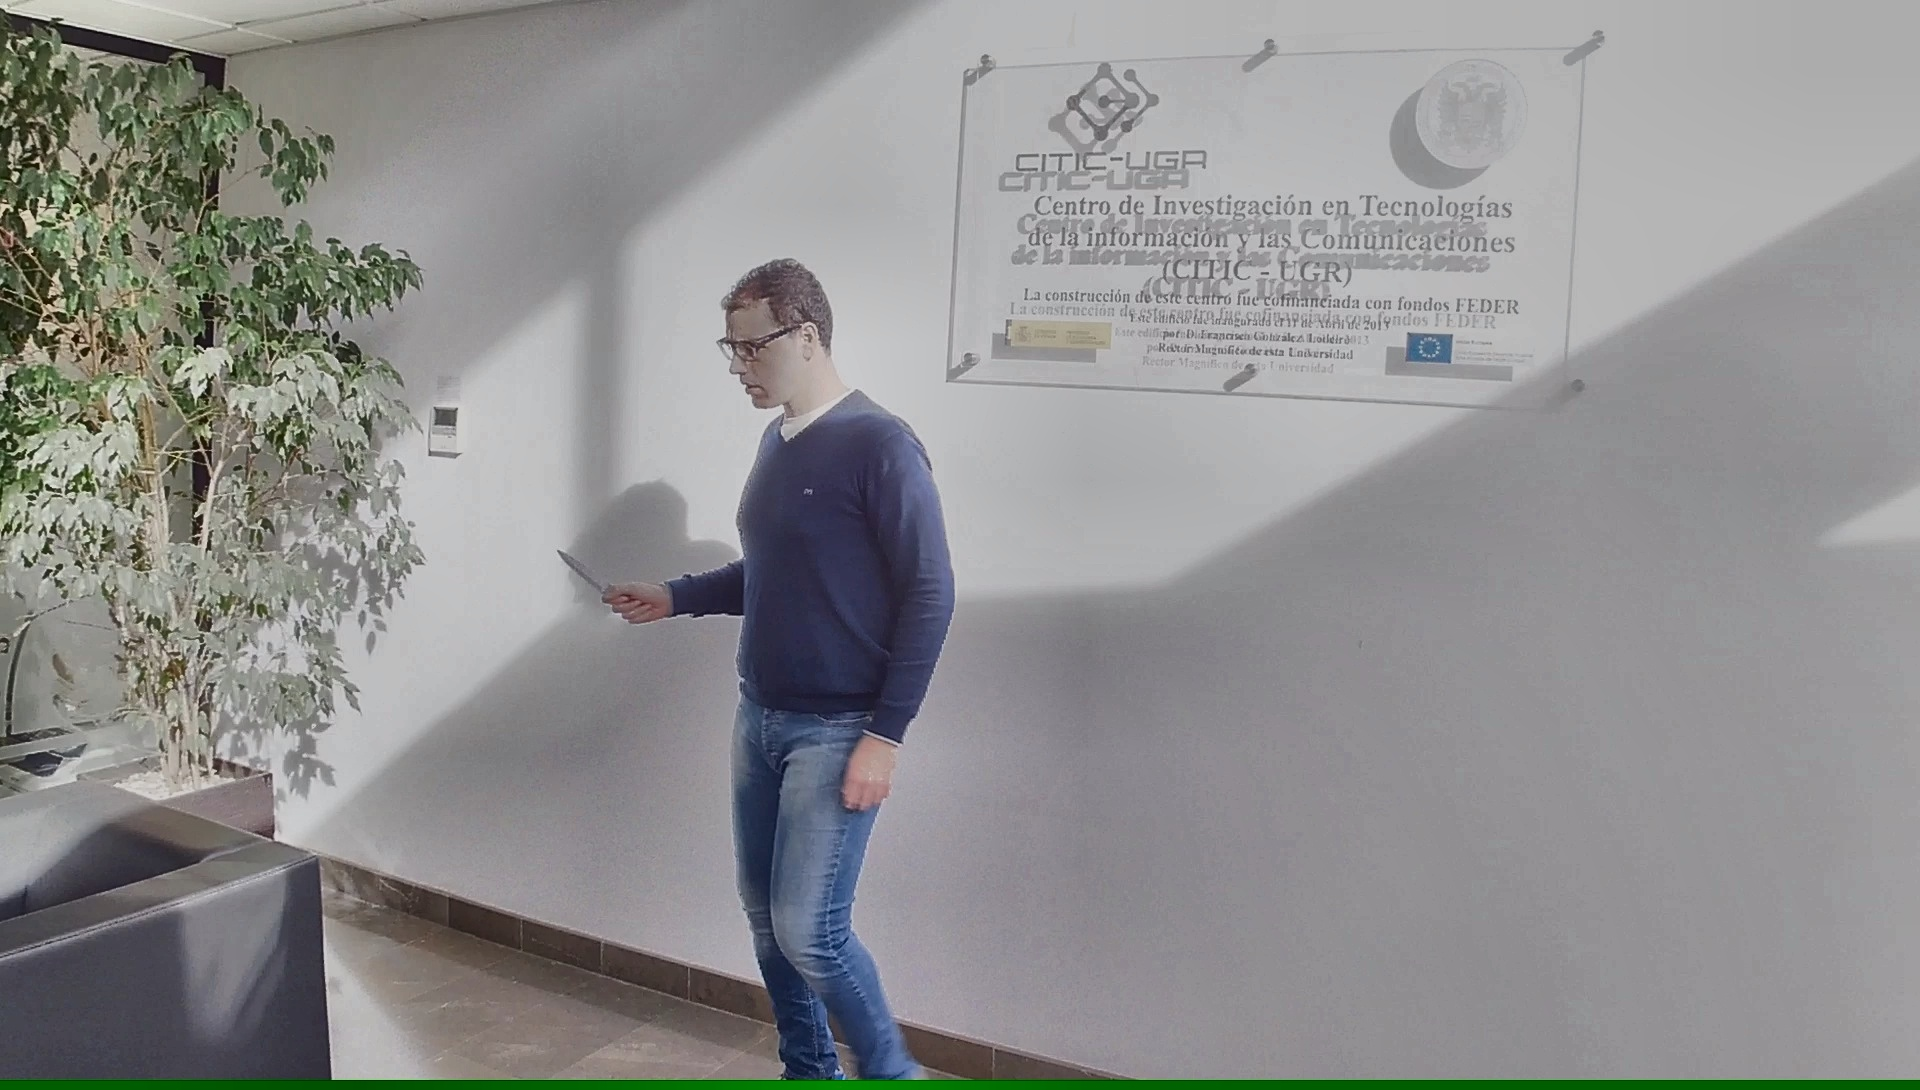knife: (550, 540, 647, 619)
